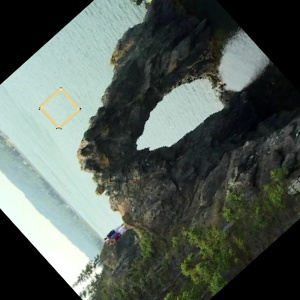square: (38, 85, 82, 130)
